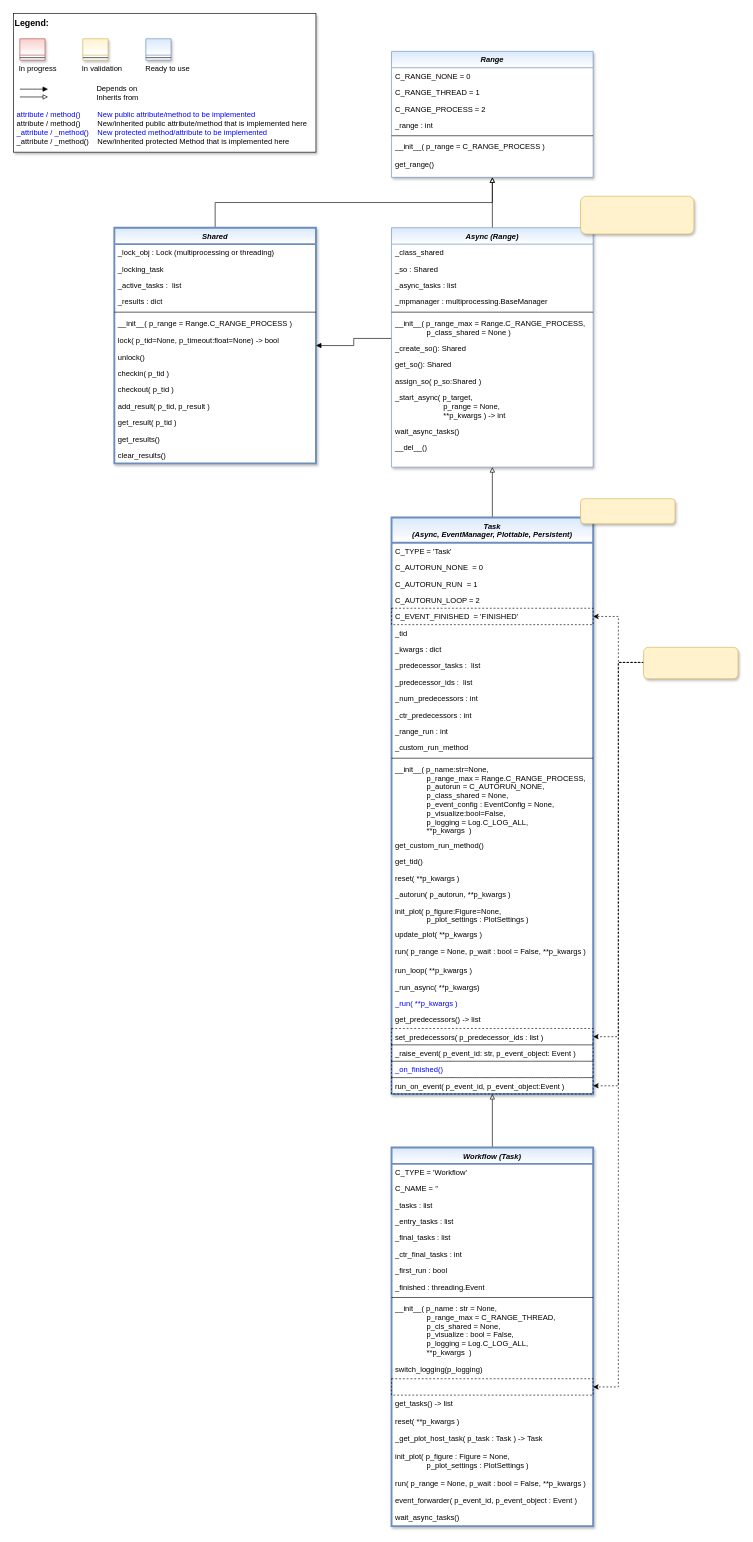
Some shapes in this 753 by 1542 pixel diagram are drawn without their labels. The centre of each missing label's shape, as x and y in pixels:
"add_task( p_task : Task, p_pred_tasks : list = None )" goes at [492,1386].
"Enables the creation of event oriented task hierarchies." goes at [691,663].
"Property class, that enables a child class to start asynchronous sub-functions" goes at [637,215].
"Template class for own (asynchronous) Tasks" goes at [628,511].
